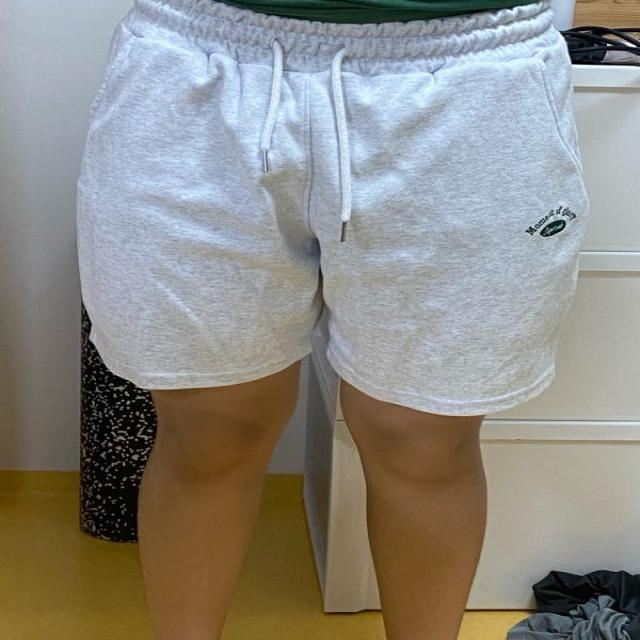shortpants: (76, 0, 589, 416)
